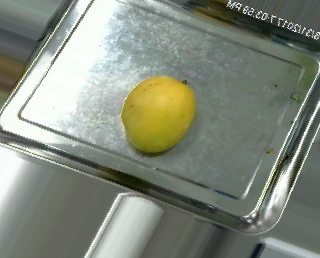Mango: (122, 76, 195, 152)
